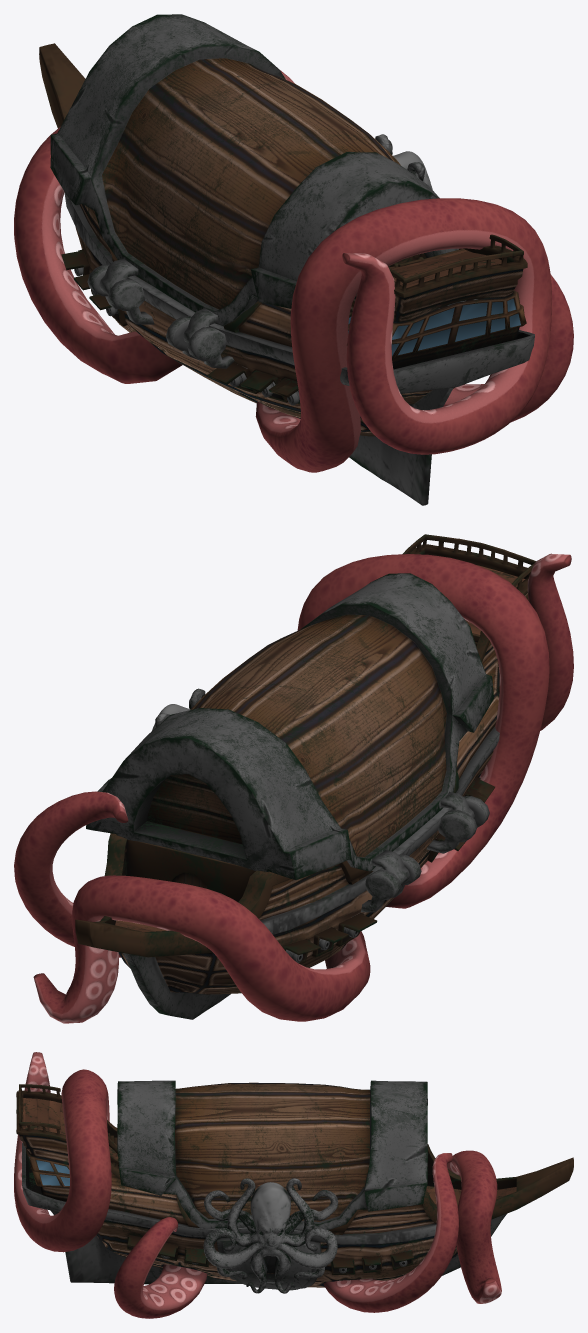
The model's file is KrakenChest2_obj.obj.
3 views of the same model, one above another, from view 1: azimuth 30°, elevation 25°; view 2: azimuth 150°, elevation 25°; view 3: azimuth 270°, elevation 25° (orthographic). The views are drawn at different scales.
Parts seen in each view (by area): view 1: Chest_Cube.012, Kraken_arms_NurbsPath, pirate_ship_Cube.001, hinges_Cube.008, hinges.001_Cube.006, kraken_chest_lock_not_decimated_TreasureChestChallenge.003; view 2: Chest_Cube.012, Kraken_arms_NurbsPath, pirate_ship_Cube.001, hinges_Cube.008, hinges.001_Cube.006; view 3: Chest_Cube.012, Kraken_arms_NurbsPath, pirate_ship_Cube.001, kraken_chest_lock_not_decimated_TreasureChestChallenge.003.
Part boxes in pixels (x1,y1,x2,y2): Chest_Cube.012: (50, 14, 458, 325); Kraken_arms_NurbsPath: (14, 70, 573, 472); pirate_ship_Cube.001: (39, 43, 534, 505); hinges_Cube.008: (87, 264, 234, 368); hinges.001_Cube.006: (99, 259, 217, 342); kraken_chest_lock_not_decimated_TreasureChestChallenge.003: (375, 134, 432, 189); Chest_Cube.012: (86, 573, 493, 879); Kraken_arms_NurbsPath: (14, 553, 573, 1023); pirate_ship_Cube.001: (75, 534, 536, 1019); hinges_Cube.008: (361, 796, 489, 912); hinges.001_Cube.006: (372, 792, 474, 884); Chest_Cube.012: (117, 1080, 427, 1230); Kraken_arms_NurbsPath: (14, 1052, 501, 1318); pirate_ship_Cube.001: (16, 1084, 573, 1290); kraken_chest_lock_not_decimated_TreasureChestChallenge.003: (203, 1178, 338, 1293).
Size of the model in its own units: 9.48 by 7.99 by 20.52.
